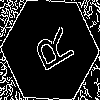R: (25, 25, 76, 79)
